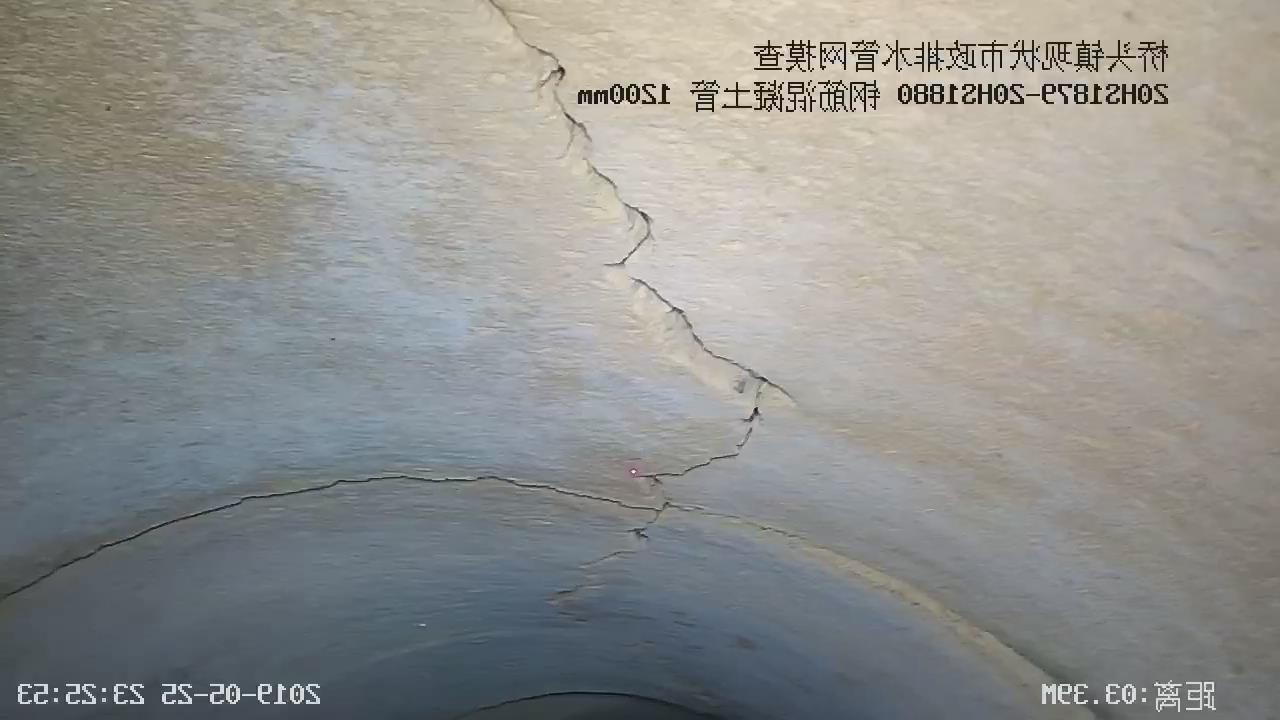PL: (483, 0, 793, 605)
